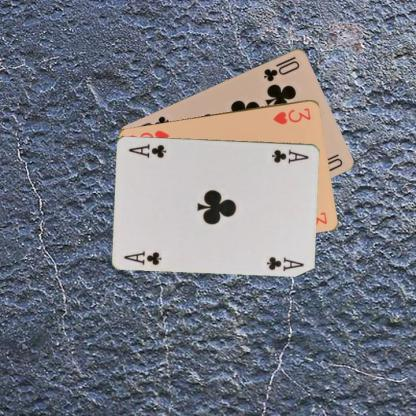10c: (261, 57, 301, 83)
3h: (270, 106, 312, 126)
Ac: (121, 248, 163, 266), (270, 146, 310, 164)
